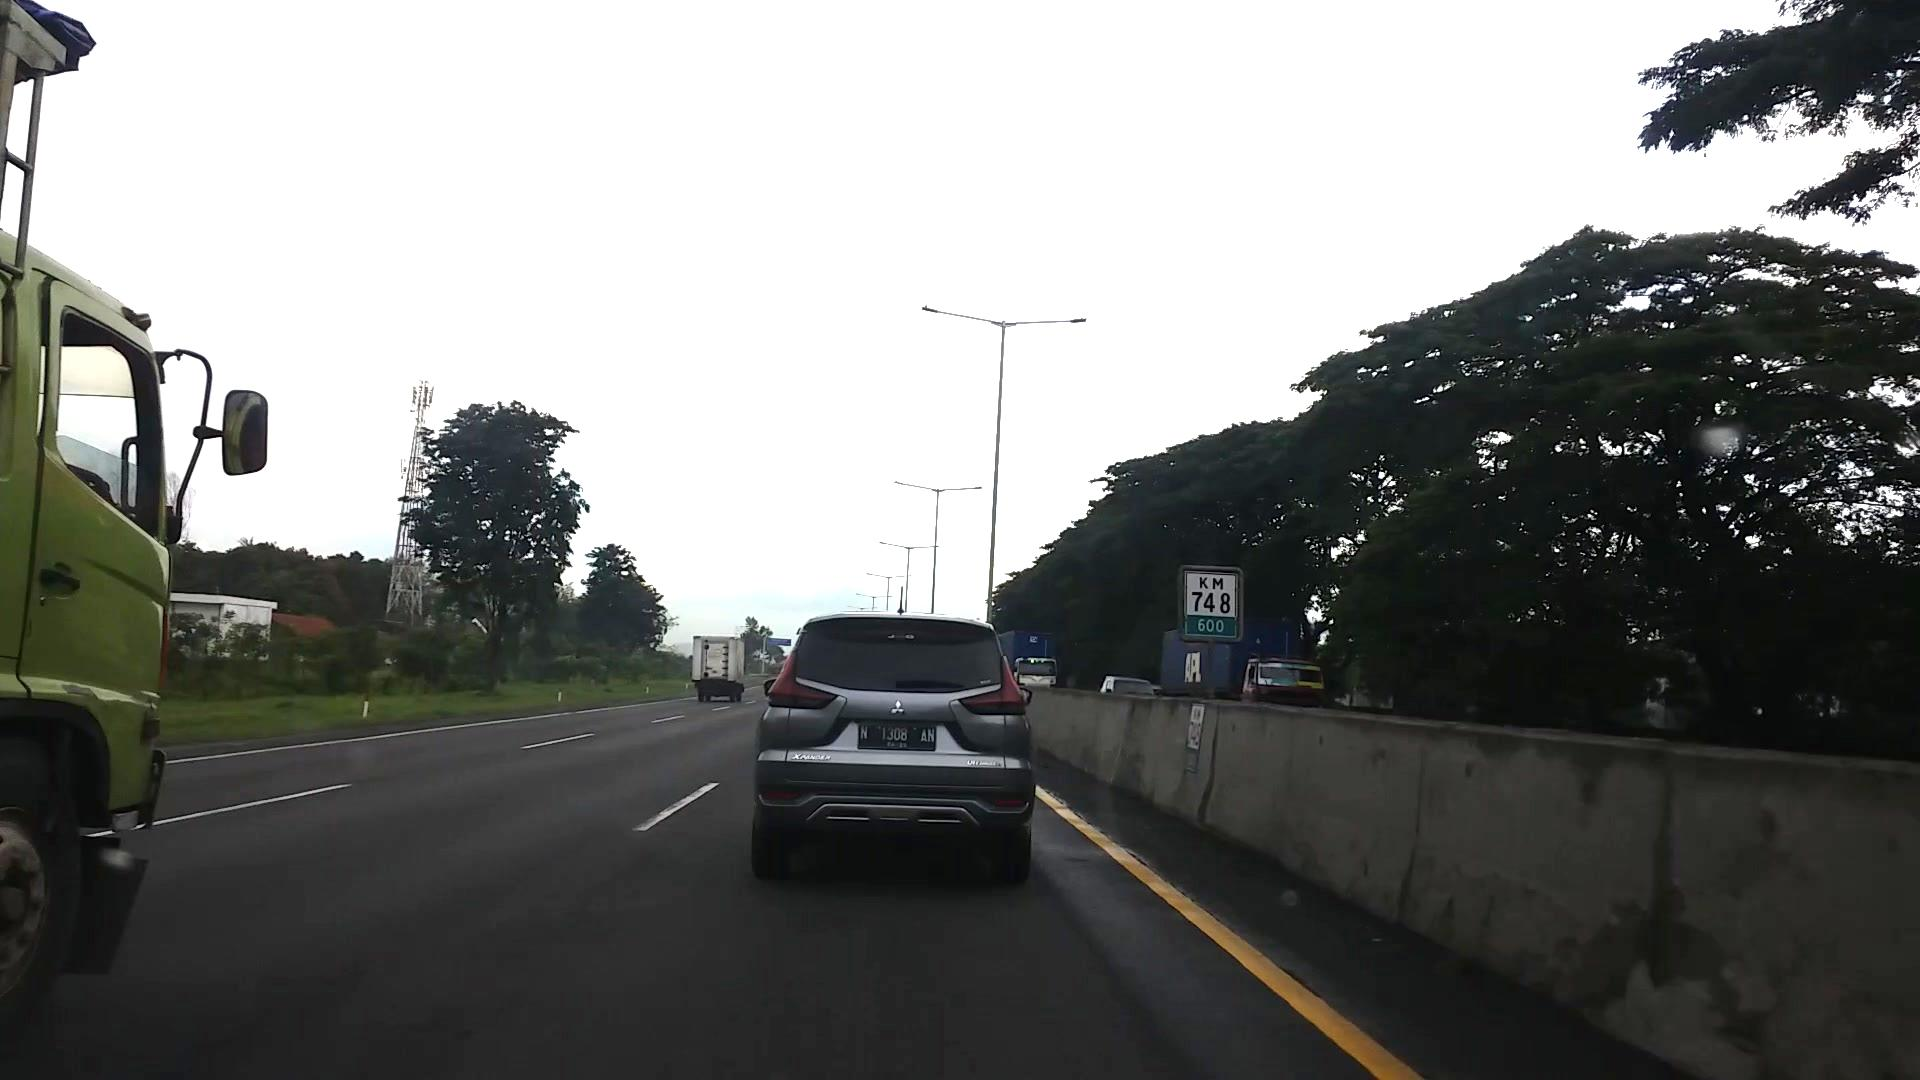plate_positive: (858, 723, 936, 752)
